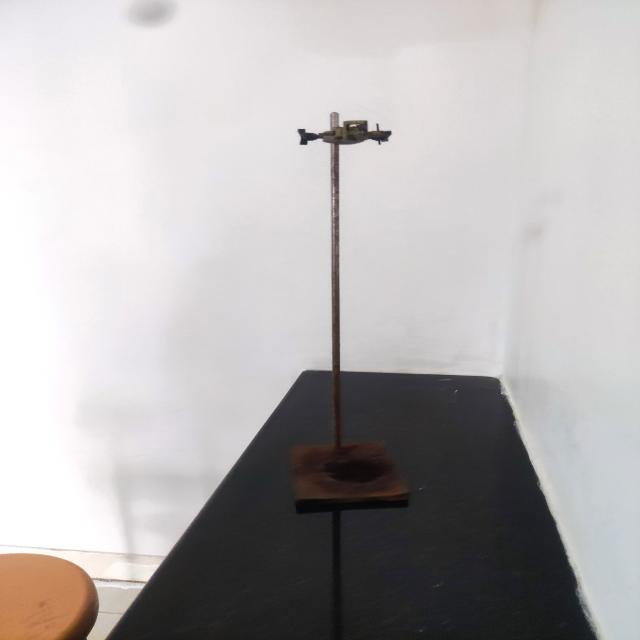Burette_Stands: (252, 91, 442, 524)
